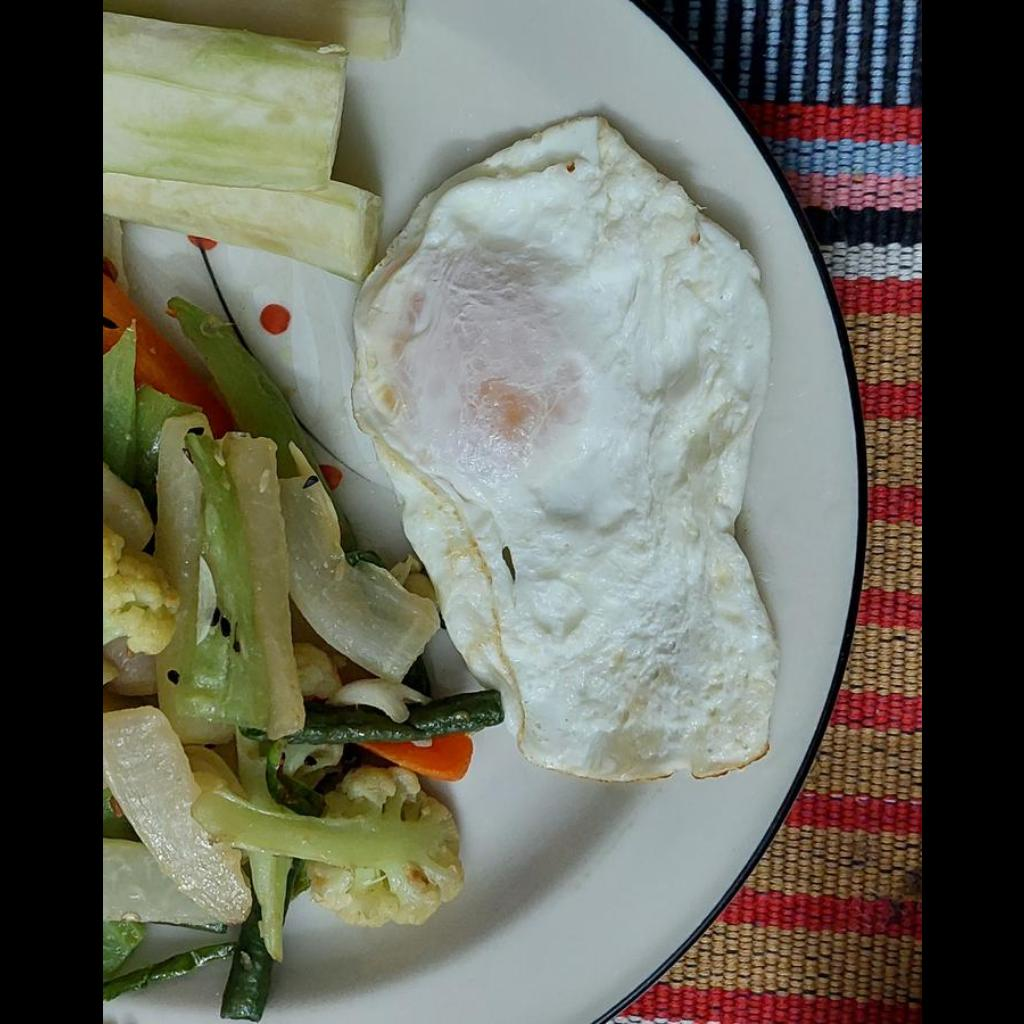cucumber: (102, 7, 379, 290)
egg-poached: (346, 115, 771, 776)
vegetable: (103, 270, 499, 1019)
